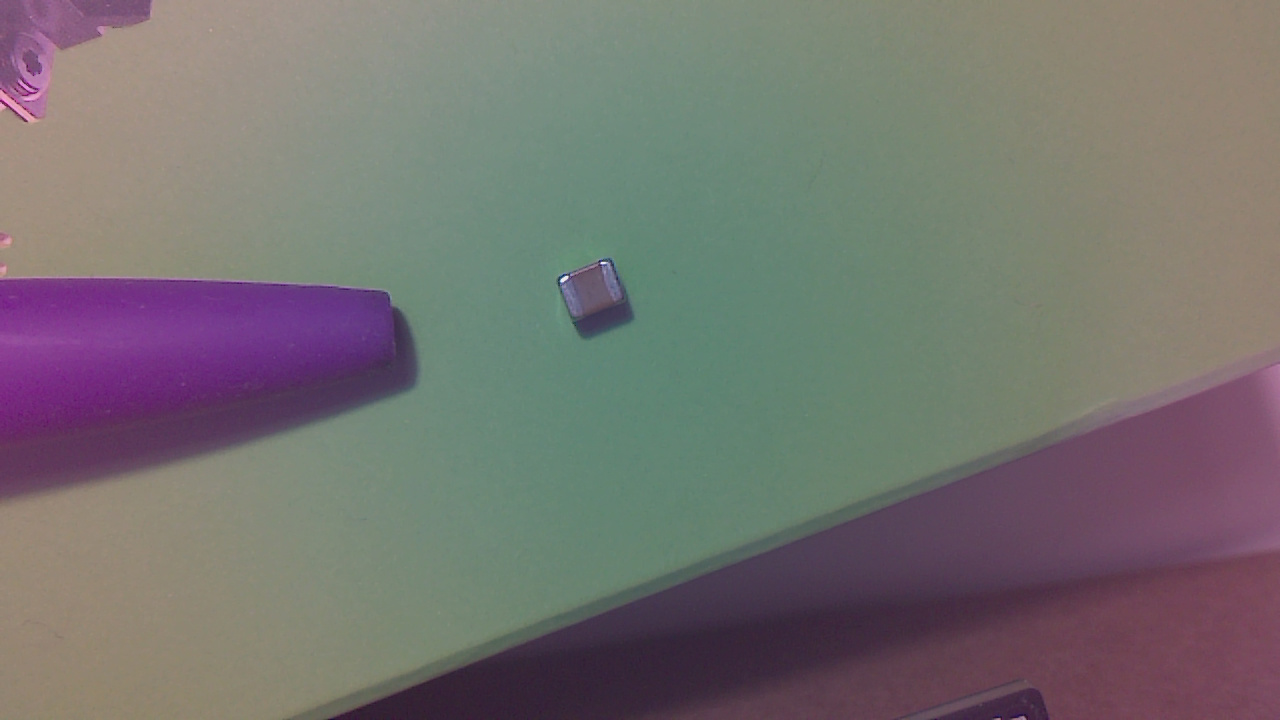Condensator: (563, 261, 640, 329)
